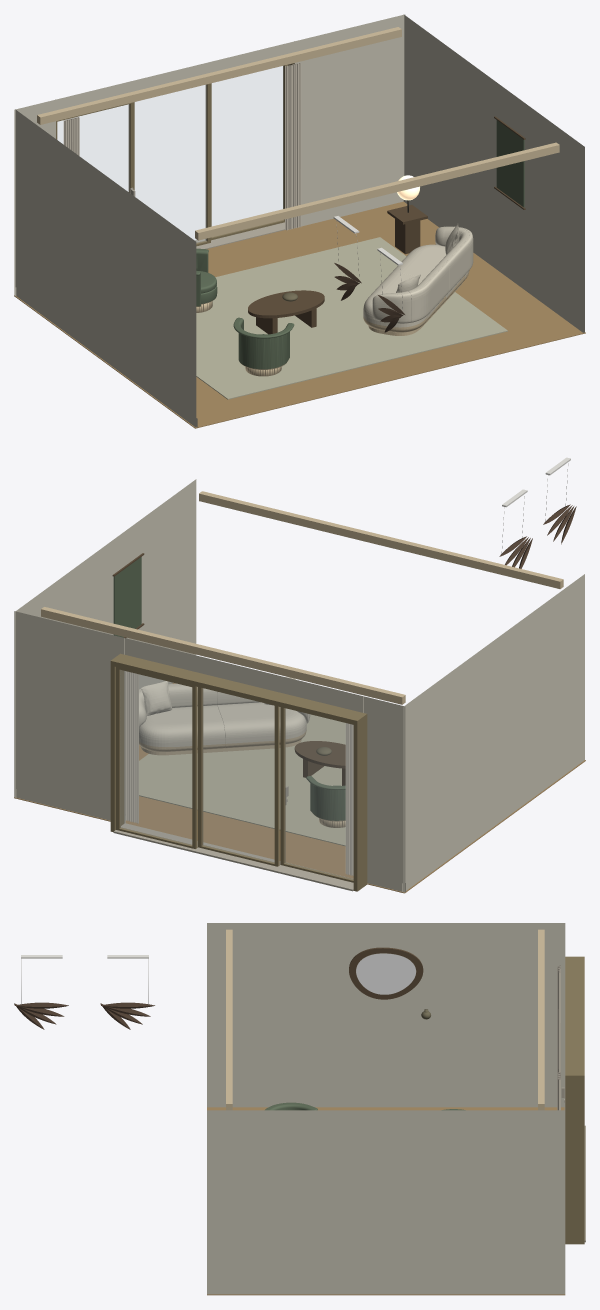
Rendered from great-1.glb.
3 renders of one model, top to bottom at view 1: azimuth 30°, elevation 25°; view 2: azimuth 150°, elevation 25°; view 3: azimuth 270°, elevation 25°, orthographic.
Visible parts, largest first — view 1: DESIGN | great removable wall finish, DESIGN | Great room primary ground, DESIGN | great floor finish, DESIGN | R10 lift-slide panel 3 glass, DESIGN | R10 lift-slide panel 2 glass, DESIGN | Great room sofa facing conversation, DESIGN | Garden salon perimeter timber, DESIGN | Garden salon perimeter timber.001, DESIGN | R10 lift-slide panel 1 glass, DESIGN | Great room soft window edge.001, DESIGN | Required Bellustar swivel chair one, DESIGN | Great room linen hanging (+6 smaller); view 2: DESIGN | great removable wall finish, DESIGN | Great room primary ground, DESIGN | R10 lift-slide panel 3 glass, DESIGN | R10 lift-slide panel 2 glass, DESIGN | R10 lift-slide panel 1 glass, DESIGN | Great room sofa facing conversation, DESIGN | great floor finish, DESIGN | Garden salon perimeter timber, DESIGN | Garden salon perimeter timber.001, DESIGN | R10 garden opening head, DESIGN | R10 garden opening jamb, DESIGN | R10 drained garden sill (+12 smaller); view 3: DESIGN | great removable wall finish, DESIGN | R10 garden opening jamb.001, DESIGN | R10 garden opening head, DESIGN | R10 Giolino study reflective surface, DESIGN | great floor finish, DESIGN | Garden salon perimeter timber, DESIGN | Garden salon perimeter timber.001, DESIGN | R10 Giolino-inspired walnut frame, DESIGN | Required Flou pendant 1, DESIGN | Required Flou pendant 2.
Part boxes in pixels (x1,y1,x2,y2): DESIGN | great removable wall finish: (14,14,584,427); DESIGN | Great room primary ground: (196,237,507,399); DESIGN | great floor finish: (14,201,585,428); DESIGN | R10 lift-slide panel 3 glass: (212,66,283,225); DESIGN | R10 lift-slide panel 2 glass: (135,85,206,242); DESIGN | Great room sofa facing conversation: (363,223,473,335); DESIGN | Garden salon perimeter timber: (195,142,559,240); DESIGN | Garden salon perimeter timber.001: (37,27,401,124); DESIGN | R10 lift-slide panel 1 glass: (57,104,129,192); DESIGN | Great room soft window edge.001: (285,63,301,230); DESIGN | Required Bellustar swivel chair one: (233,317,294,376); DESIGN | Great room linen hanging: (496,120,524,207); DESIGN | great removable wall finish: (14,479,584,892); DESIGN | Great room primary ground: (139,714,345,846); DESIGN | R10 lift-slide panel 3 glass: (120,670,191,845); DESIGN | R10 lift-slide panel 2 glass: (203,688,274,862); DESIGN | R10 lift-slide panel 1 glass: (285,708,353,879); DESIGN | Great room sofa facing conversation: (139,677,310,755); DESIGN | great floor finish: (14,683,585,893); DESIGN | Garden salon perimeter timber: (199,491,563,588); DESIGN | Garden salon perimeter timber.001: (41,607,405,704); DESIGN | R10 garden opening head: (110,653,367,725); DESIGN | R10 garden opening jamb: (353,716,367,891); DESIGN | R10 drained garden sill: (113,823,353,891); DESIGN | great removable wall finish: (207,923,565,1294); DESIGN | R10 garden opening jamb.001: (565,1077,584,1244); DESIGN | R10 garden opening head: (565,956,584,1080); DESIGN | R10 Giolino study reflective surface: (356,953,415,994); DESIGN | great floor finish: (207,1107,565,1295); DESIGN | Garden salon perimeter timber: (226,929,232,1110); DESIGN | Garden salon perimeter timber.001: (538,929,544,1110); DESIGN | R10 Giolino-inspired walnut frame: (349,947,423,999); DESIGN | Required Flou pendant 1: (14,1002,68,1029); DESIGN | Required Flou pendant 2: (100,1002,154,1029).
Bounding box in the file's own units: 6 × 3.04 × 7.7.
